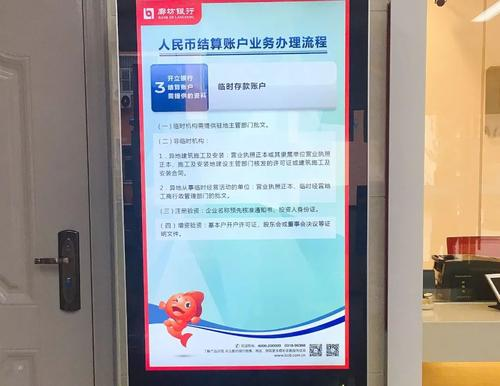bill: (134, 1, 350, 370)
